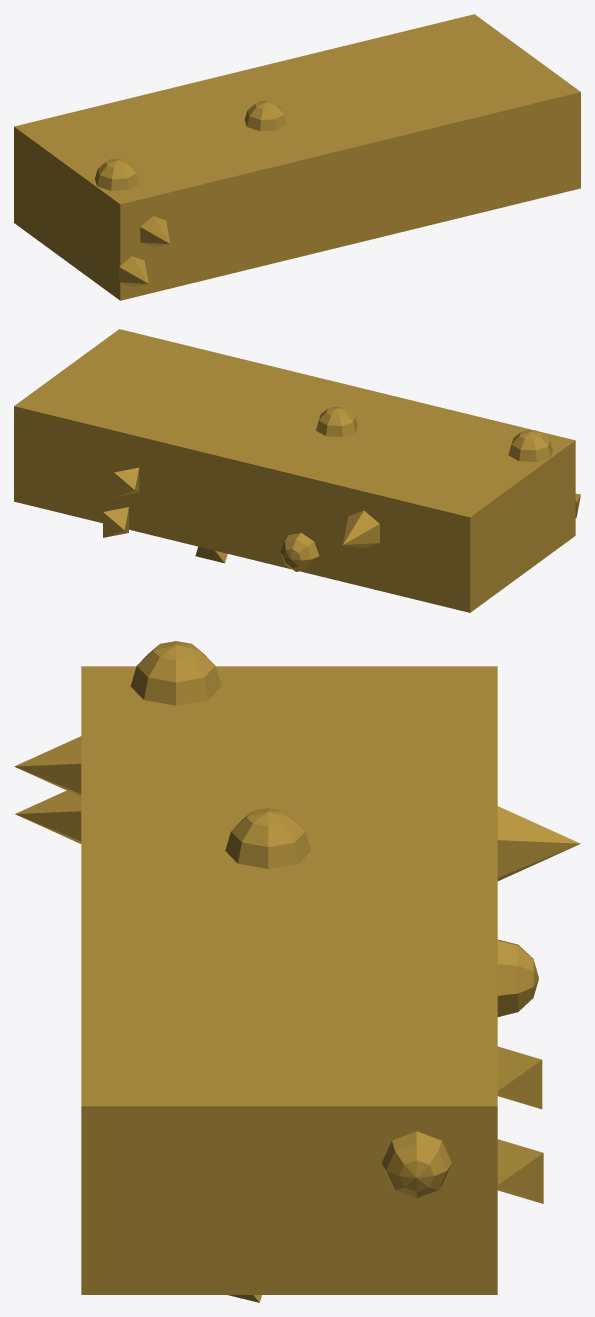
3 renders of one model, top to bottom at view 1: azimuth 30°, elevation 25°; view 2: azimuth 150°, elevation 25°; view 3: azimuth 270°, elevation 25°, orthographic. The views are drawn at different scales.
Parts seen in each view (by area): view 1: object01_high; view 2: object01_high; view 3: object01_high.
Boxes of the visible parts, left/top/right/bottom form: object01_high: left=14, top=14, right=580, bottom=300; object01_high: left=14, top=329, right=580, bottom=612; object01_high: left=14, top=641, right=580, bottom=1302.
Bounding box in the file's own units: 5.18 × 1.49 × 2.72.
